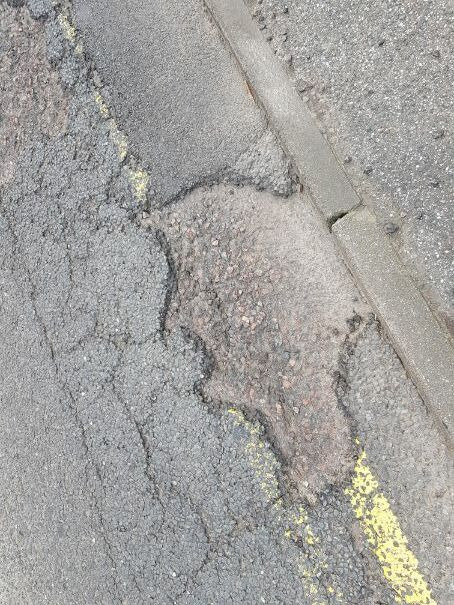pothole: (122, 164, 374, 517)
